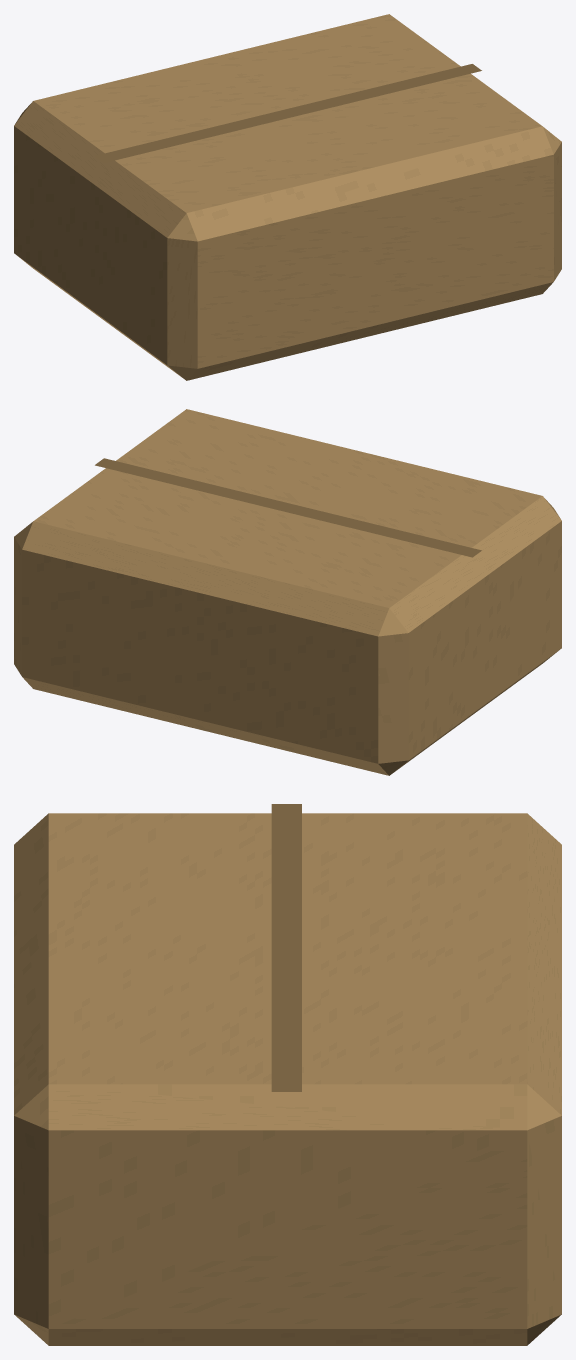
Rendered from box_longarm.glb.
3 renders of one model, top to bottom at view 1: azimuth 30°, elevation 25°; view 2: azimuth 150°, elevation 25°; view 3: azimuth 270°, elevation 25°, orthographic. The views are drawn at different scales.
Parts seen in each view (by area): view 1: block_container body, block_fold or seam; view 2: block_container body, block_fold or seam; view 3: block_container body, block_fold or seam.
Part boxes in pixels (<box>): block_container body: <box>14,14,561,380</box>; block_fold or seam: <box>95,64,481,162</box>; block_container body: <box>14,409,561,775</box>; block_fold or seam: <box>95,458,481,557</box>; block_container body: <box>14,813,561,1345</box>; block_fold or seam: <box>271,804,301,1091</box>.
Bounding box in the file's own units: 1.35 × 0.5498 × 1.04.
Materials: 1 (1 with a texture image).
